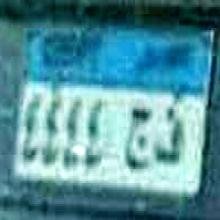4: (85, 95, 107, 177), (64, 96, 82, 171), (42, 96, 60, 168), (22, 94, 40, 163)
faa: (152, 103, 184, 172)
jeem: (125, 103, 151, 176)
